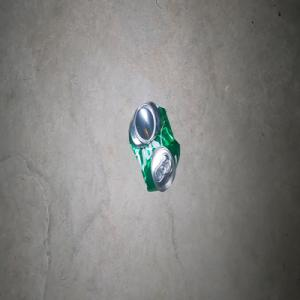SodaCan: (128, 100, 180, 191)
